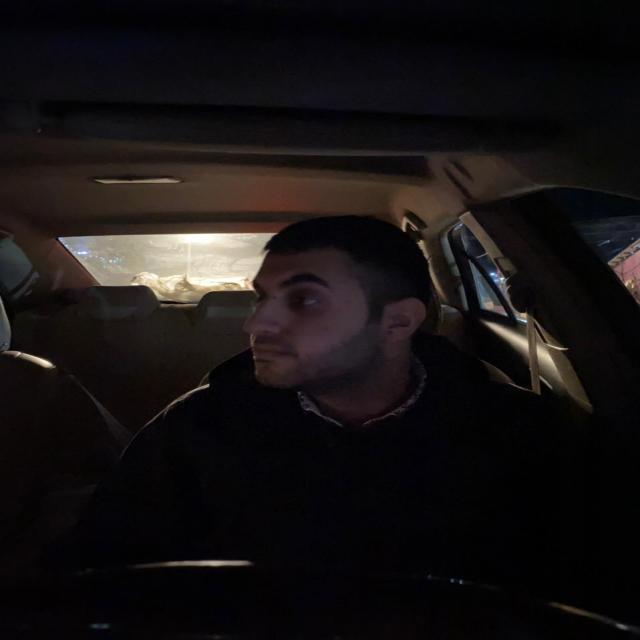LeftRight: (241, 210, 439, 391)
